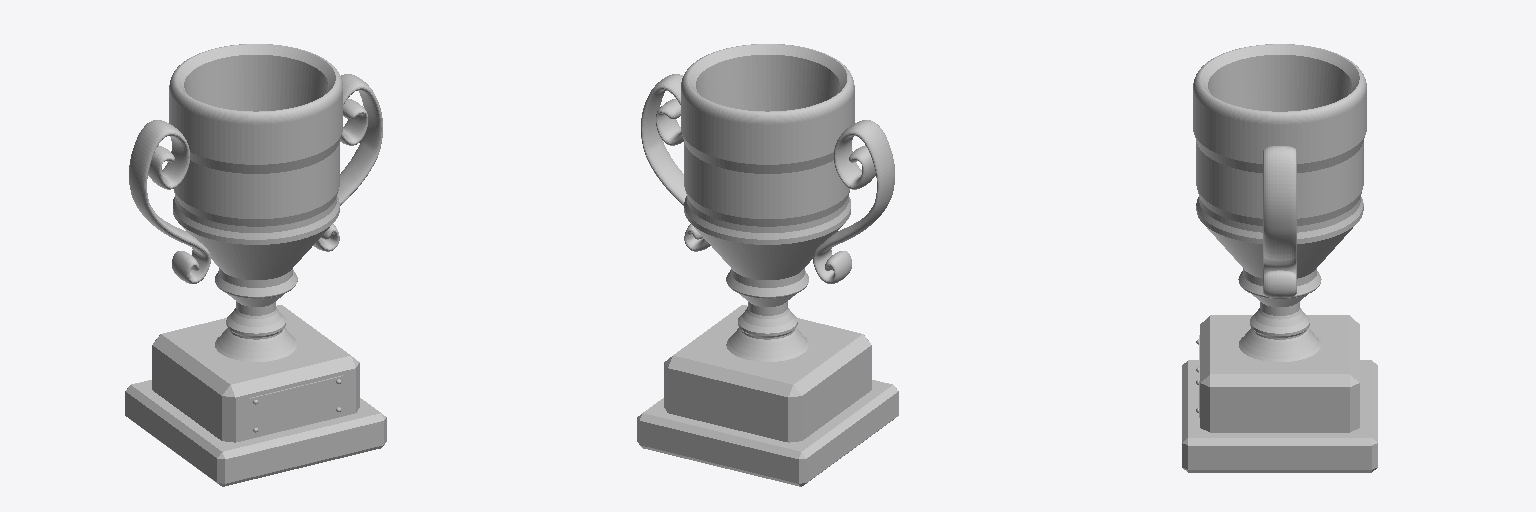
The model's file is trofeo.obj.
The picture shows the model from 3 angles: view 1: azimuth 30°, elevation 25°; view 2: azimuth 150°, elevation 25°; view 3: azimuth 270°, elevation 25°; orthographic projection.
Visible parts, largest first — view 1: trofeo; view 2: trofeo; view 3: trofeo.
Part boxes in pixels (x1,y1,x2,y2): trofeo: (125,44,386,486); trofeo: (637,44,898,486); trofeo: (1182,44,1377,472).
Bounding box in the file's own units: 1.96 × 2.74 × 1.37.